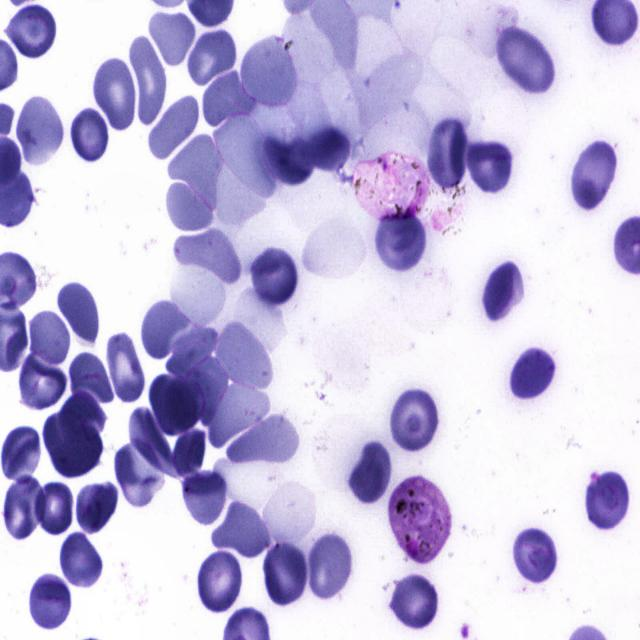gametocyte: (390, 476, 456, 562)
red blood cell: (568, 135, 620, 214), (500, 23, 554, 96), (149, 372, 206, 441), (44, 413, 108, 474), (224, 414, 305, 462), (210, 501, 274, 560), (200, 68, 259, 130), (345, 436, 395, 509), (130, 33, 168, 128), (128, 405, 175, 481), (112, 441, 165, 506), (308, 529, 354, 603), (375, 210, 427, 274), (262, 536, 308, 608), (389, 386, 439, 452), (20, 355, 74, 416), (389, 570, 440, 633), (195, 550, 243, 616), (250, 247, 300, 310), (17, 96, 64, 162), (106, 333, 148, 406), (72, 348, 119, 413), (182, 467, 231, 529), (512, 524, 560, 587), (464, 136, 512, 198), (94, 60, 134, 134), (584, 470, 631, 532), (482, 262, 529, 324), (149, 8, 197, 68), (2, 476, 44, 543), (431, 117, 470, 189), (187, 29, 238, 84), (27, 574, 74, 633), (56, 281, 98, 347), (150, 94, 194, 155), (509, 343, 556, 400), (59, 533, 104, 590), (26, 308, 76, 359), (58, 392, 112, 438), (8, 5, 54, 59), (1, 423, 42, 483), (72, 105, 109, 166), (35, 481, 74, 534), (77, 478, 116, 529), (173, 427, 208, 483)
